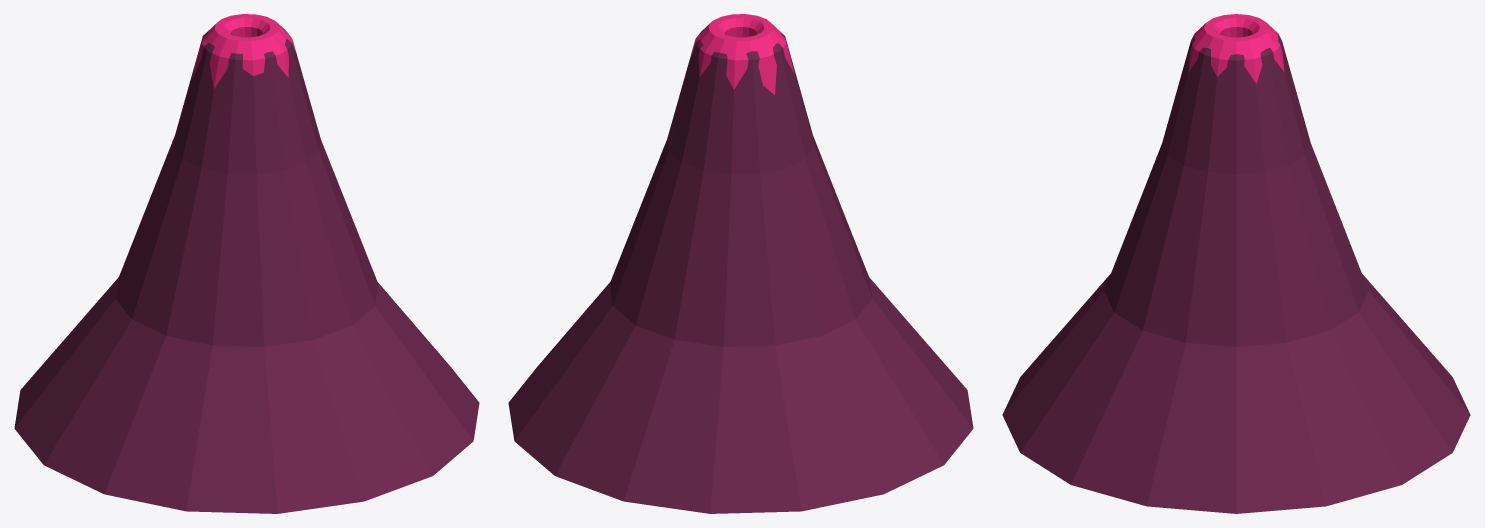
Rendered from Volcano1.fbx.
3 views of the same model, side by side, from view 1: azimuth 30°, elevation 25°; view 2: azimuth 150°, elevation 25°; view 3: azimuth 270°, elevation 25° (orthographic).
Parts seen in each view (by area): view 1: Circle; view 2: Circle; view 3: Circle.
Boxes of the visible parts, x1=… form: Circle: x1=14, y1=14, x2=479, y2=513; Circle: x1=508, y1=14, x2=973, y2=513; Circle: x1=1002, y1=14, x2=1470, y2=513.
Size of the model in its own units: 815 by 744 by 815.
